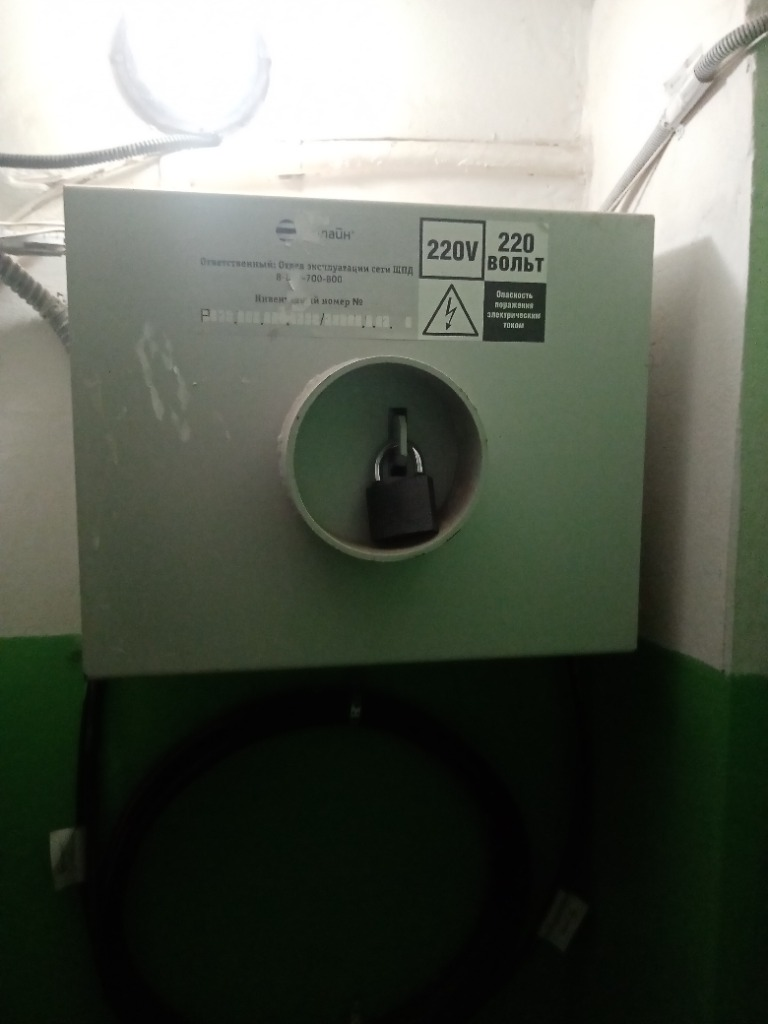shta-3: (58, 180, 662, 677)
